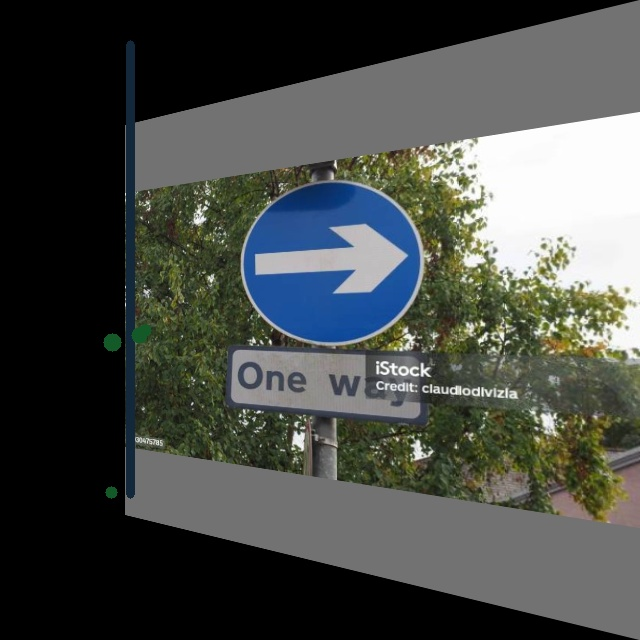Compulsory_Turn_Right: (241, 164, 427, 349)
